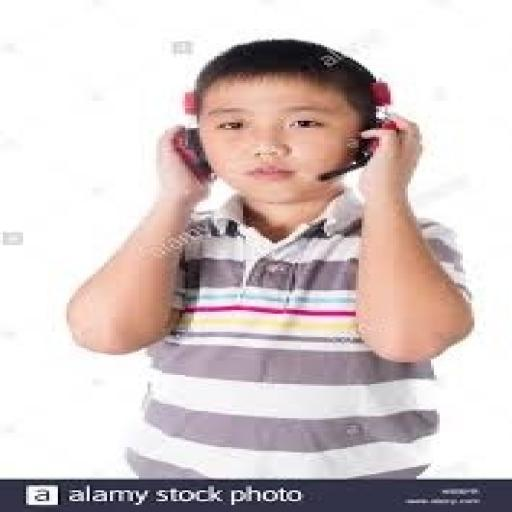listening_to_music: (64, 36, 480, 480)
